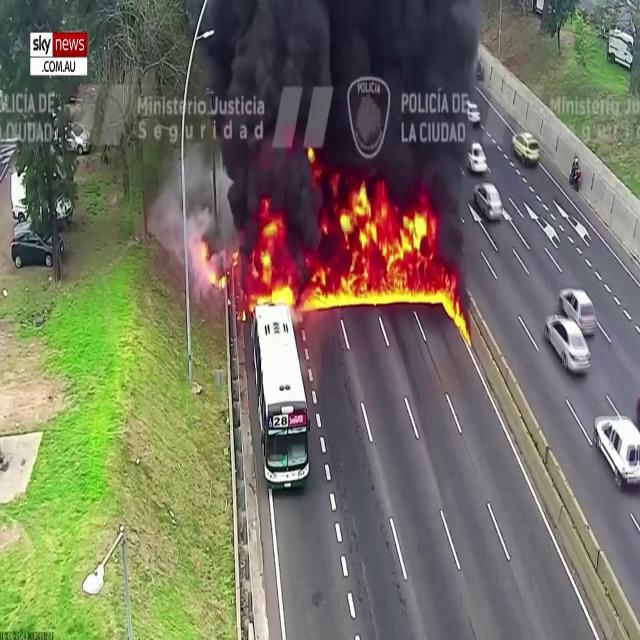Fire: (198, 182, 454, 311)
Smoke: (160, 0, 491, 237)
